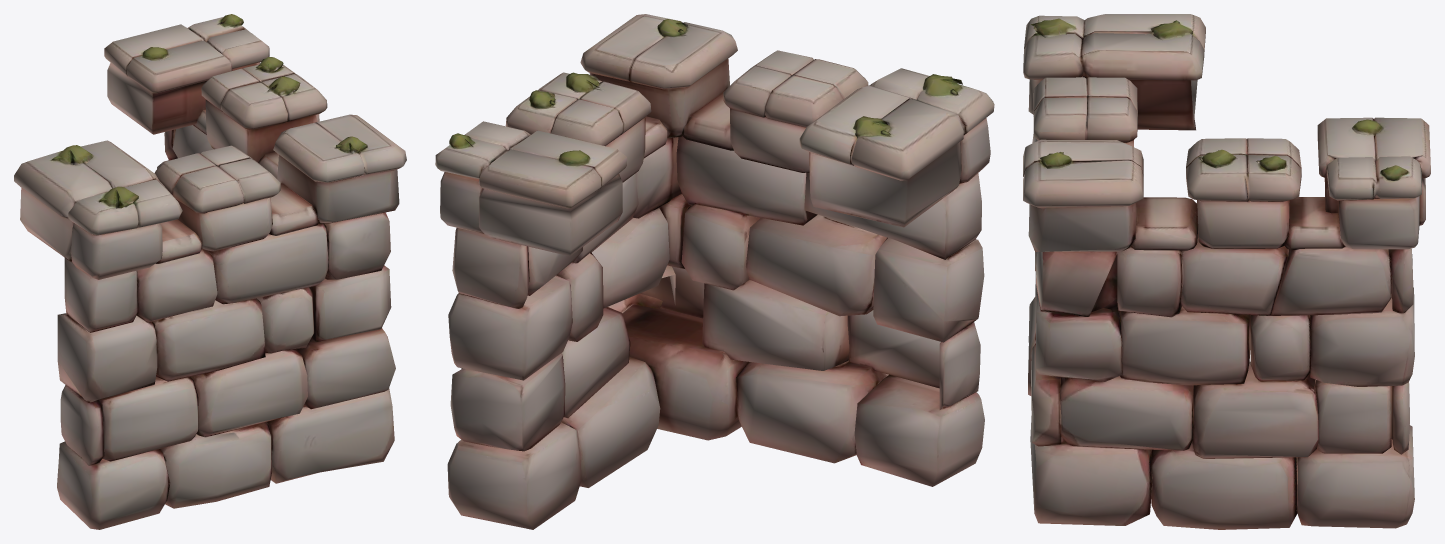
The model's file is wall_stone_a_v1.glb.
The picture shows the model from 3 angles, left to right: view 1: azimuth 30°, elevation 25°; view 2: azimuth 150°, elevation 25°; view 3: azimuth 270°, elevation 25°; orthographic projection. The views are drawn at different scales.
Parts seen in each view (by area): view 1: tripo_node_1535ef3d-e9d8-4ef4-9623-0fd81c82c4ea; view 2: tripo_node_1535ef3d-e9d8-4ef4-9623-0fd81c82c4ea; view 3: tripo_node_1535ef3d-e9d8-4ef4-9623-0fd81c82c4ea.
Boxes of the visible parts, left/top/right/bottom form: tripo_node_1535ef3d-e9d8-4ef4-9623-0fd81c82c4ea: left=14, top=14, right=406, bottom=529; tripo_node_1535ef3d-e9d8-4ef4-9623-0fd81c82c4ea: left=435, top=14, right=994, bottom=529; tripo_node_1535ef3d-e9d8-4ef4-9623-0fd81c82c4ea: left=1023, top=14, right=1430, bottom=529.
Bounding box in the file's own units: 0.998 × 0.998 × 0.998.
Materials: 1 (1 with a texture image).
